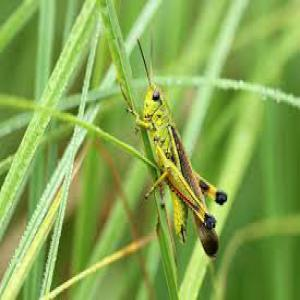locust: (130, 71, 251, 265)
